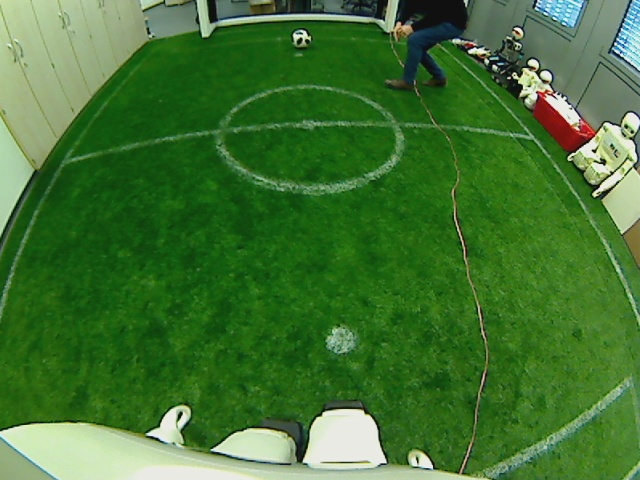ball: (291, 28, 312, 49)
